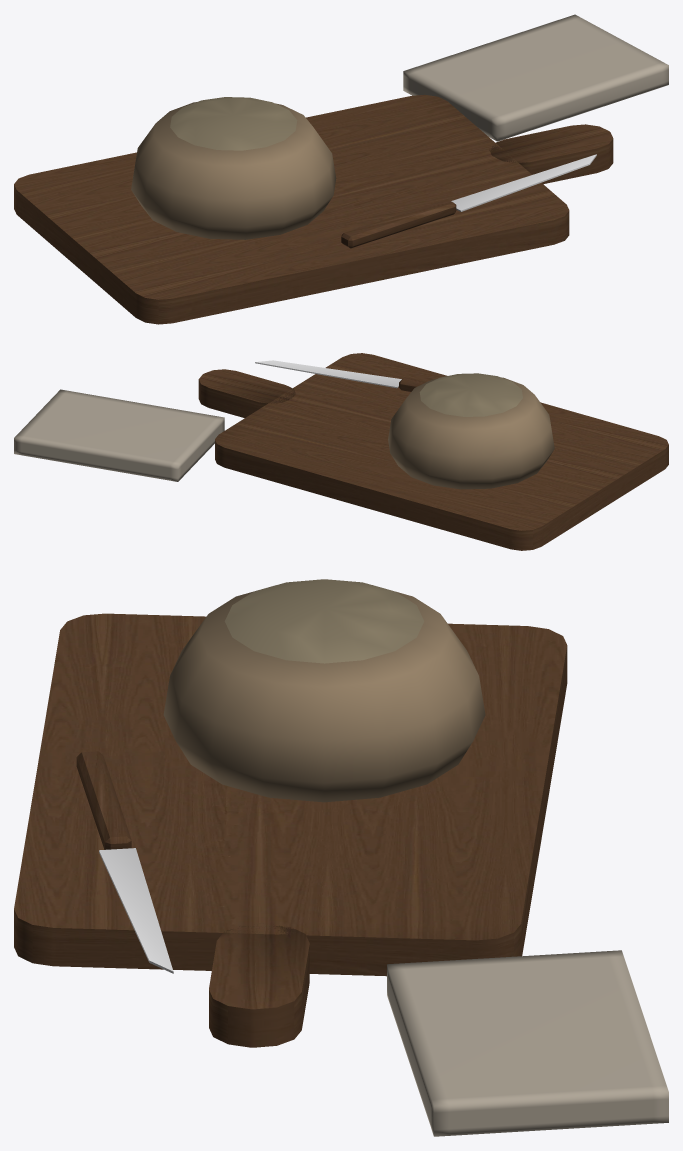
The model's file is decor_b_bread_board.gltf.
3 views of the same model, one above another, from view 1: azimuth 30°, elevation 25°; view 2: azimuth 150°, elevation 25°; view 3: azimuth 270°, elevation 25° (orthographic). The views are drawn at different scales.
Visible parts, largest first — view 1: DecorBBreadBoard_Walnut_NoCollide, DecorBBreadBoard_LinenOat_NoCollide, DecorBBreadBoard_Bread01_Crust_NoCollide, DecorBBreadBoard_Bread01_Flour_NoCollide, DecorBBreadBoard_Knife01_Walnut_NoCollide, DecorBBreadBoard_Knife01_Steel_NoCollide; view 2: DecorBBreadBoard_Walnut_NoCollide, DecorBBreadBoard_LinenOat_NoCollide, DecorBBreadBoard_Bread01_Crust_NoCollide, DecorBBreadBoard_Bread01_Flour_NoCollide, DecorBBreadBoard_Knife01_Steel_NoCollide; view 3: DecorBBreadBoard_Walnut_NoCollide, DecorBBreadBoard_Bread01_Crust_NoCollide, DecorBBreadBoard_LinenOat_NoCollide, DecorBBreadBoard_Bread01_Flour_NoCollide, DecorBBreadBoard_Knife01_Steel_NoCollide, DecorBBreadBoard_Knife01_Walnut_NoCollide.
Part boxes in pixels (left/top/right/bottom): DecorBBreadBoard_Walnut_NoCollide: left=14, top=94, right=613, bottom=324; DecorBBreadBoard_LinenOat_NoCollide: left=403, top=14, right=668, bottom=141; DecorBBreadBoard_Bread01_Crust_NoCollide: left=131, top=102, right=336, bottom=239; DecorBBreadBoard_Bread01_Flour_NoCollide: left=170, top=97, right=297, bottom=150; DecorBBreadBoard_Knife01_Walnut_NoCollide: left=341, top=199, right=456, bottom=248; DecorBBreadBoard_Knife01_Steel_NoCollide: left=451, top=154, right=596, bottom=211; DecorBBreadBoard_Walnut_NoCollide: left=198, top=353, right=668, bottom=550; DecorBBreadBoard_LinenOat_NoCollide: left=14, top=389, right=224, bottom=481; DecorBBreadBoard_Bread01_Crust_NoCollide: left=388, top=377, right=554, bottom=489; DecorBBreadBoard_Bread01_Flour_NoCollide: left=419, top=373, right=522, bottom=416; DecorBBreadBoard_Knife01_Steel_NoCollide: left=255, top=360, right=401, bottom=388; DecorBBreadBoard_Walnut_NoCollide: left=14, top=613, right=567, bottom=1047; DecorBBreadBoard_Bread01_Crust_NoCollide: left=163, top=591, right=485, bottom=802; DecorBBreadBoard_LinenOat_NoCollide: left=387, top=950, right=668, bottom=1136; DecorBBreadBoard_Bread01_Flour_NoCollide: left=224, top=579, right=424, bottom=663; DecorBBreadBoard_Knife01_Steel_NoCollide: left=99, top=848, right=173, bottom=973; DecorBBreadBoard_Knife01_Walnut_NoCollide: left=76, top=751, right=131, bottom=849.
Size of the model in its own units: 0.677 by 0.1115 by 0.3865.
Materials: 5 (1 with a texture image).
